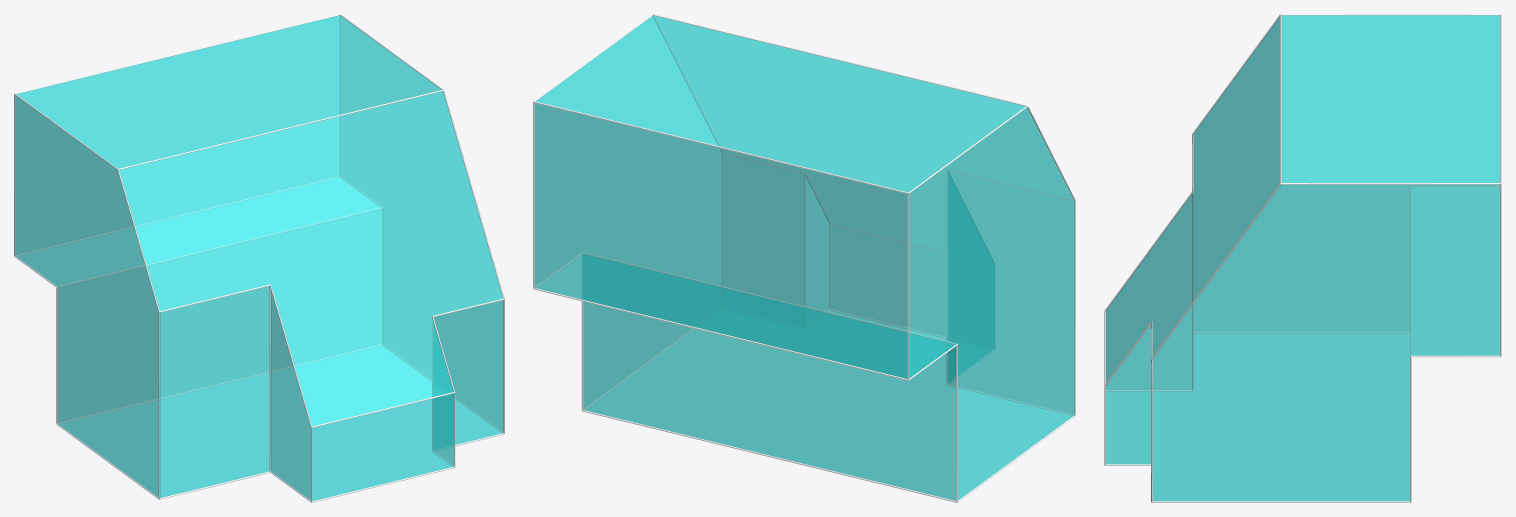
3 views of the same model, side by side, from view 1: azimuth 30°, elevation 25°; view 2: azimuth 150°, elevation 25°; view 3: azimuth 270°, elevation 25° (orthographic). The views are drawn at different scales.
Parts seen in each view (by area): view 1: root, Pipe (×7); view 2: root, Pipe (×5); view 3: root, Pipe (×3).
Part boxes in pixels (x1,y1,x2,y2): root: (15, 15, 503, 501); Pipe (×7): (15, 14, 443, 499); root: (534, 15, 1074, 500); Pipe (×5): (533, 14, 1026, 502); root: (1105, 15, 1499, 501); Pipe (×3): (1151, 183, 1500, 502).
Bounding box in the file's own units: 45.74 × 40.2 × 45.25.
